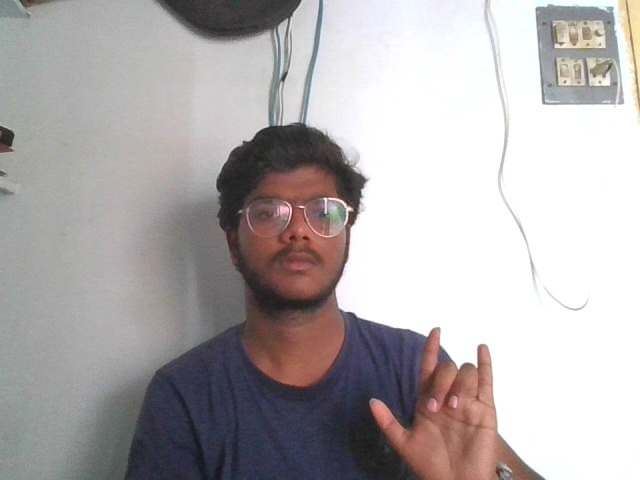IloveYou: (364, 321, 503, 480)
